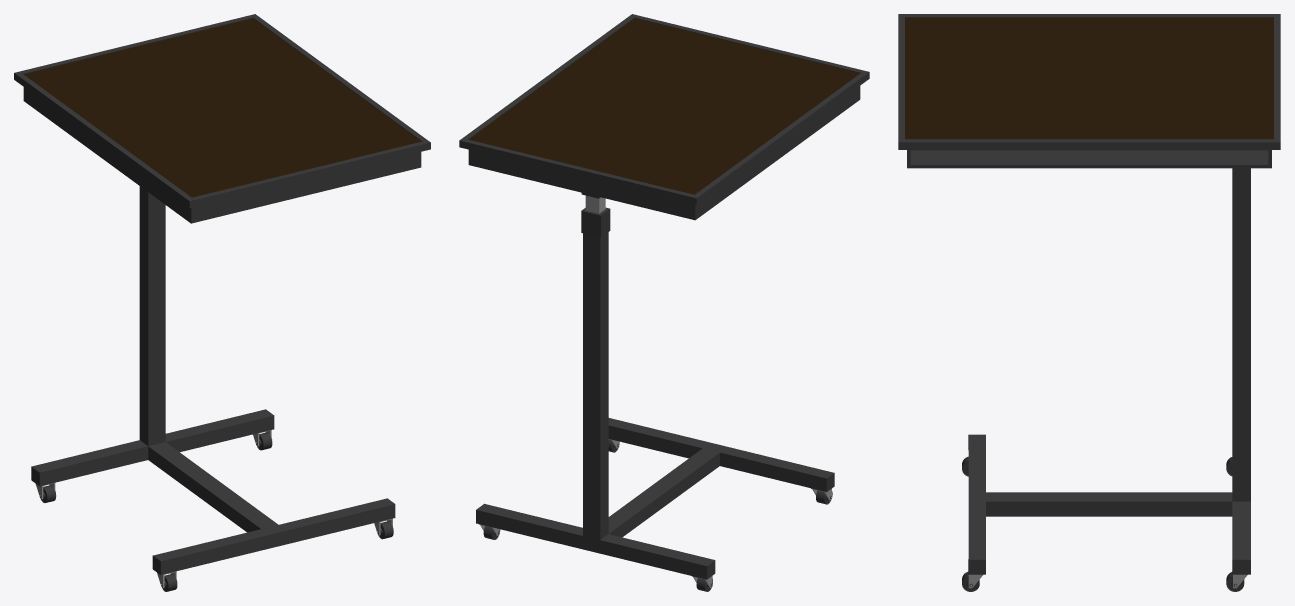
File: BedTable.fbx
The picture shows the model from 3 angles, left to right: view 1: azimuth 30°, elevation 25°; view 2: azimuth 150°, elevation 25°; view 3: azimuth 270°, elevation 25°; orthographic projection. The views are drawn at different scales.
Visible parts, largest first — view 1: TableTop, TableFoot; view 2: TableTop, TableFoot; view 3: TableTop, TableFoot.
Part boxes in pixels (<box>): TableTop: <box>14,14,430,223</box>; TableFoot: <box>31,186,395,574</box>; TableTop: <box>459,14,869,220</box>; TableFoot: <box>476,207,834,579</box>; TableTop: <box>898,14,1280,168</box>; TableFoot: <box>968,168,1250,574</box>.
Size of the model in its own units: 42.71 by 70.49 by 53.83.
